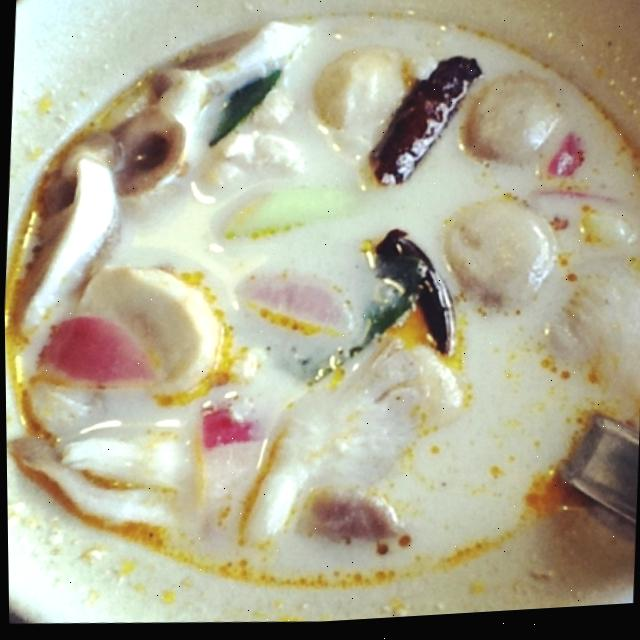汤锅炖物: (7, 0, 640, 630)
